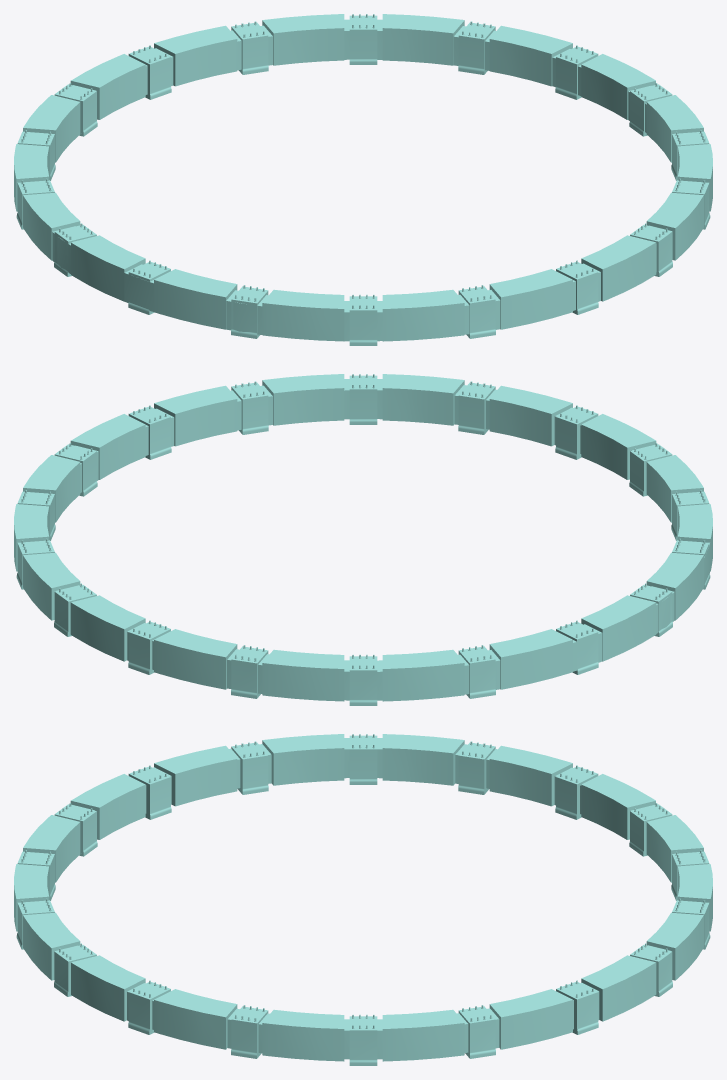
3 views of the same model, one above another, from view 1: azimuth 30°, elevation 25°; view 2: azimuth 150°, elevation 25°; view 3: azimuth 270°, elevation 25° (orthographic).
Parts seen in each view (by area): view 1: ITER_MESH__pf3; view 2: ITER_MESH__pf3; view 3: ITER_MESH__pf3.
Boxes of the visible parts, x1,y1,x2,y2 form: ITER_MESH__pf3: (14,14,712,345); ITER_MESH__pf3: (14,374,712,705); ITER_MESH__pf3: (14,734,712,1065).
Size of the model in its own units: 25.38 by 1.54 by 25.38.
